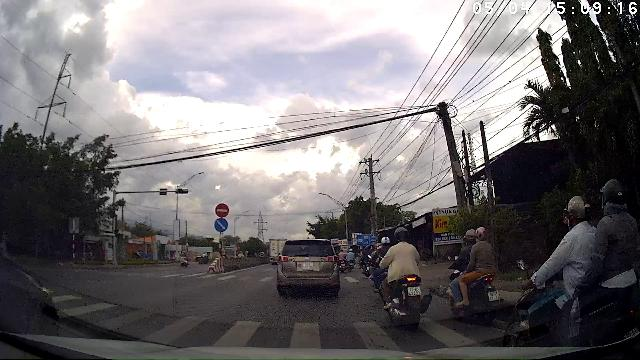102-cam-di-nguoc-chieu: (215, 203, 229, 217)
302a-huong-phai-di-vong-chuong-ngai-vat-1: (214, 218, 228, 232)
